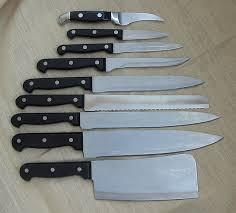Knife: (58, 10, 165, 25)
